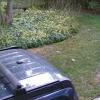Car: (1, 40, 89, 100)
